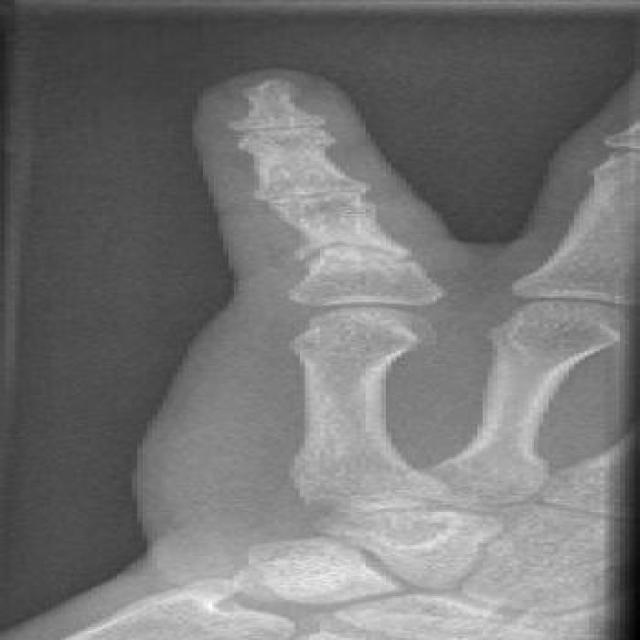Fracture: (271, 230, 433, 272)
